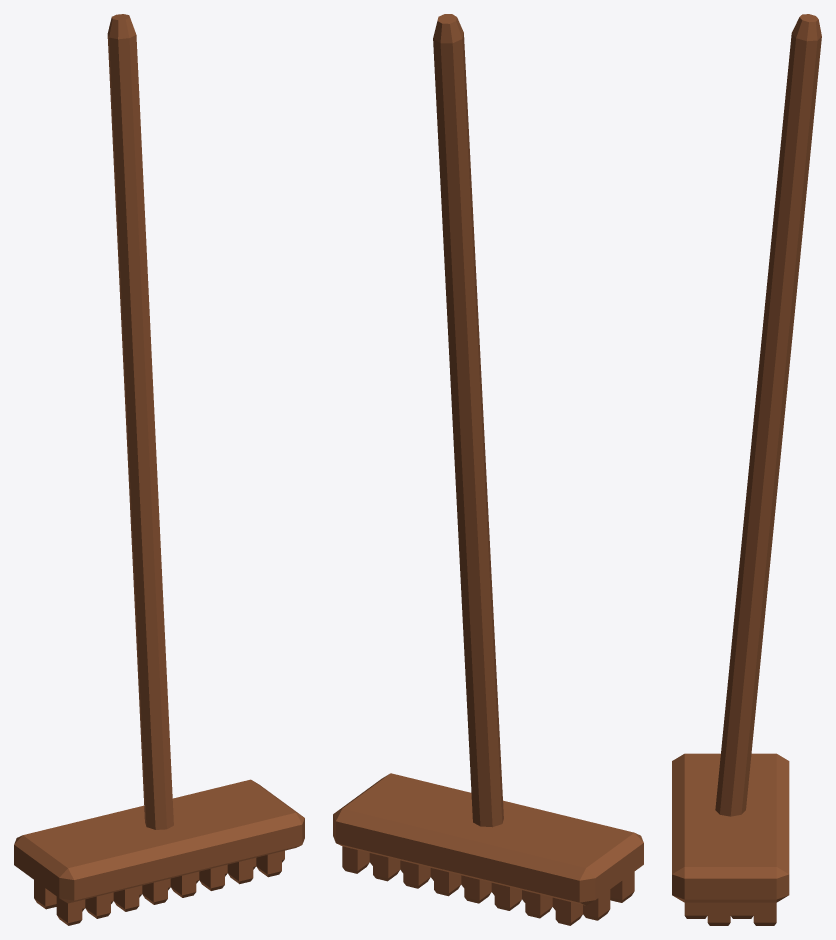
The model's file is Broom.glb.
3 renders of one model, left to right at view 1: azimuth 30°, elevation 25°; view 2: azimuth 150°, elevation 25°; view 3: azimuth 270°, elevation 25°, orthographic. The views are drawn at different scales.
Visible parts, largest first — view 1: Broom; view 2: Broom; view 3: Broom.
Part boxes in pixels (<box>): Broom: <box>14,14,304,925</box>; Broom: <box>333,14,643,925</box>; Broom: <box>672,14,821,925</box>.
Size of the model in its own units: 163 by 533 by 84.87.
